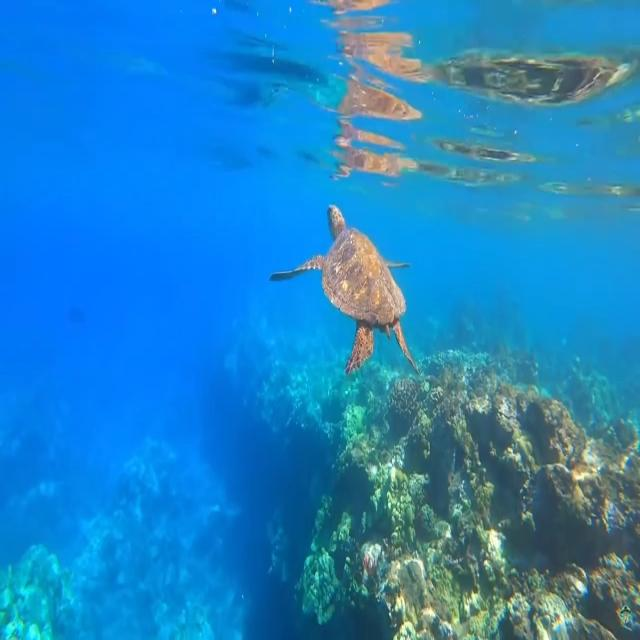Sea turtle: (269, 204, 423, 378)
